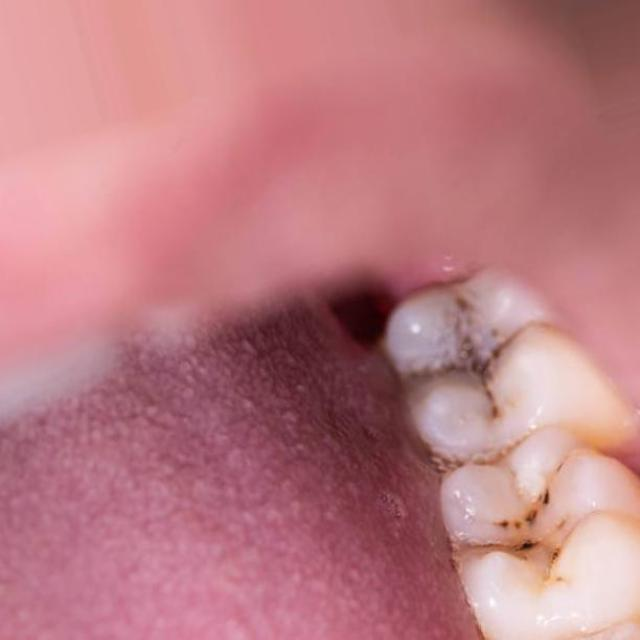caries: (459, 447, 601, 592), (413, 294, 539, 424)
